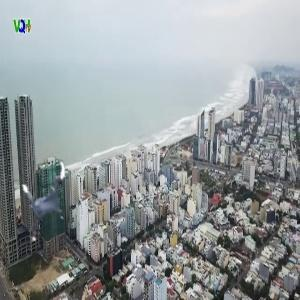drone: (8, 159, 85, 236)
